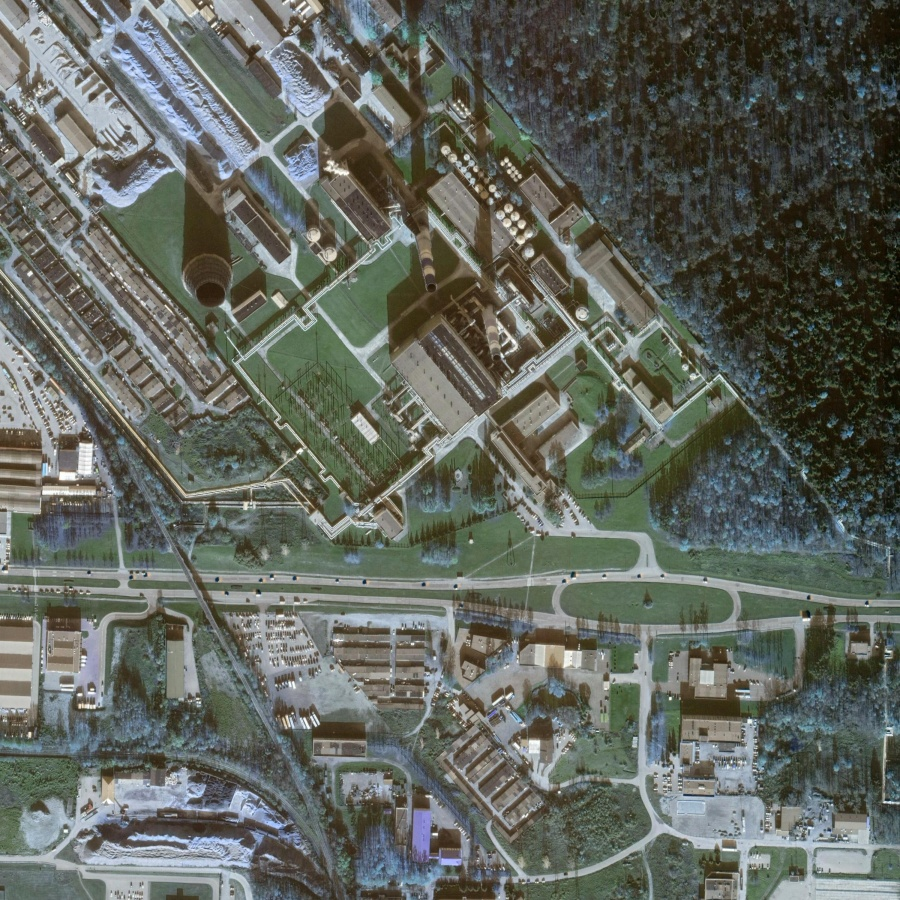PowerPlant: (157, 31, 693, 478)
